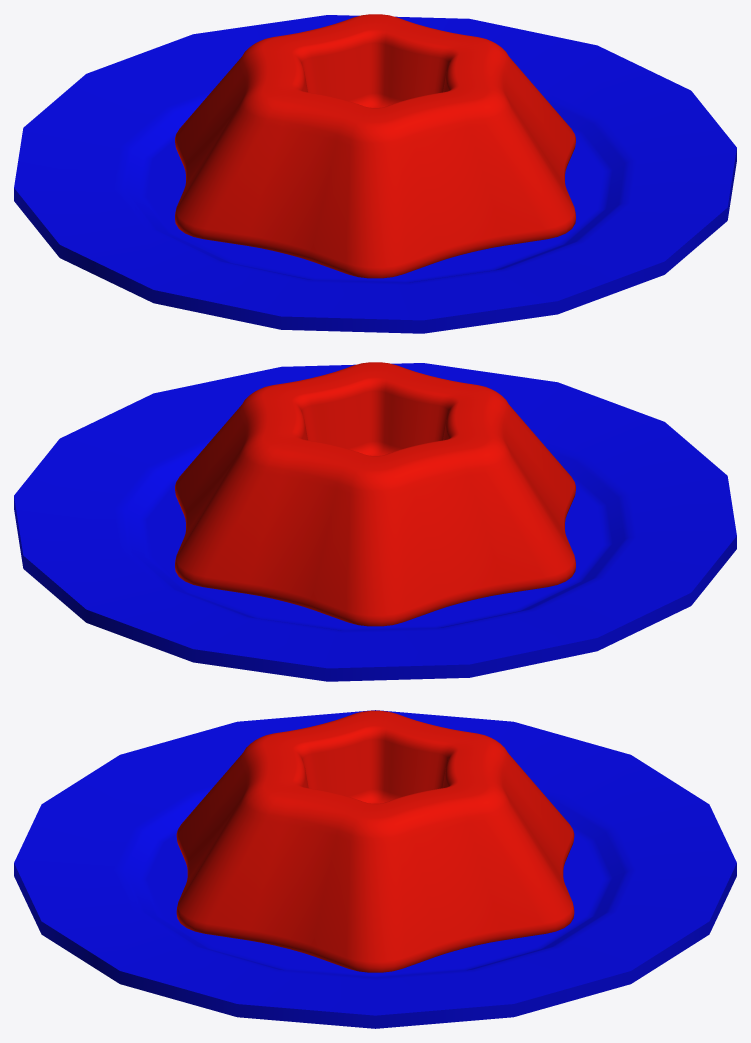
Rendered from gelatina.fbx.
3 renders of one model, top to bottom at view 1: azimuth 30°, elevation 25°; view 2: azimuth 150°, elevation 25°; view 3: azimuth 270°, elevation 25°, orthographic.
Parts seen in each view (by area): view 1: gelatina; view 2: gelatina; view 3: gelatina.
Boxes of the visible parts, box(x1,y1,x2,y2) form: gelatina: box(14, 14, 736, 333); gelatina: box(14, 362, 736, 681); gelatina: box(14, 710, 736, 1028).
Bounding box in the file's own units: 0.1789 × 0.0342 × 0.1789.
